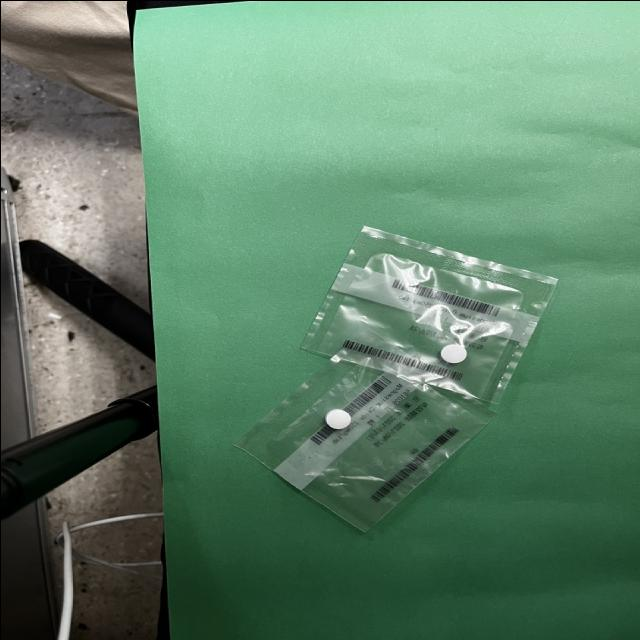Other Objects: (240, 226, 556, 529)
